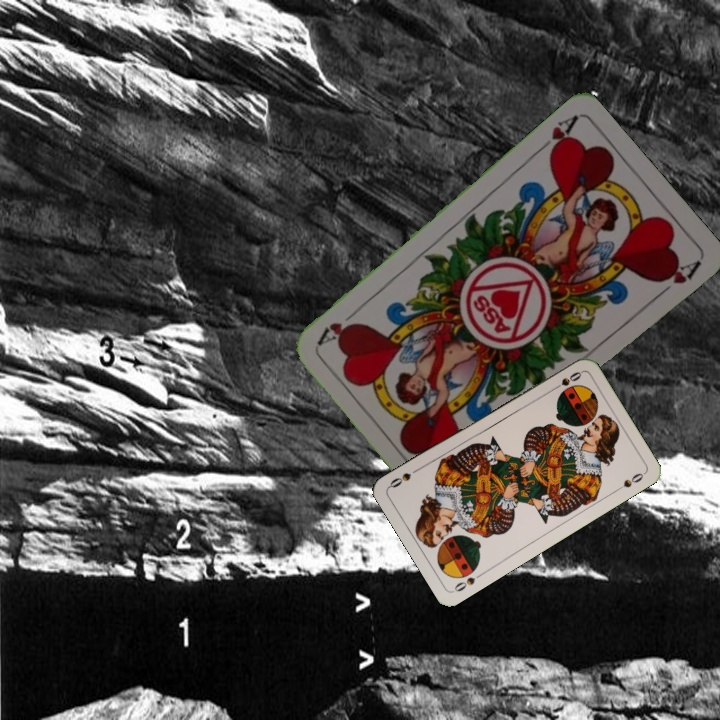HA: (531, 111, 580, 160)
SO: (547, 367, 584, 394), (450, 569, 486, 594)
